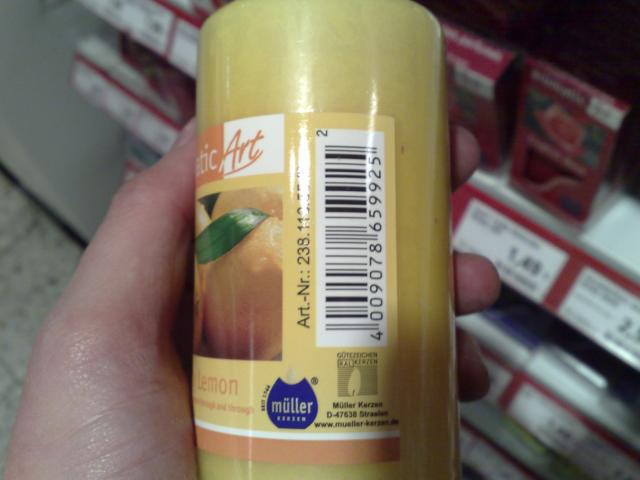Barkod: (321, 143, 366, 328)
